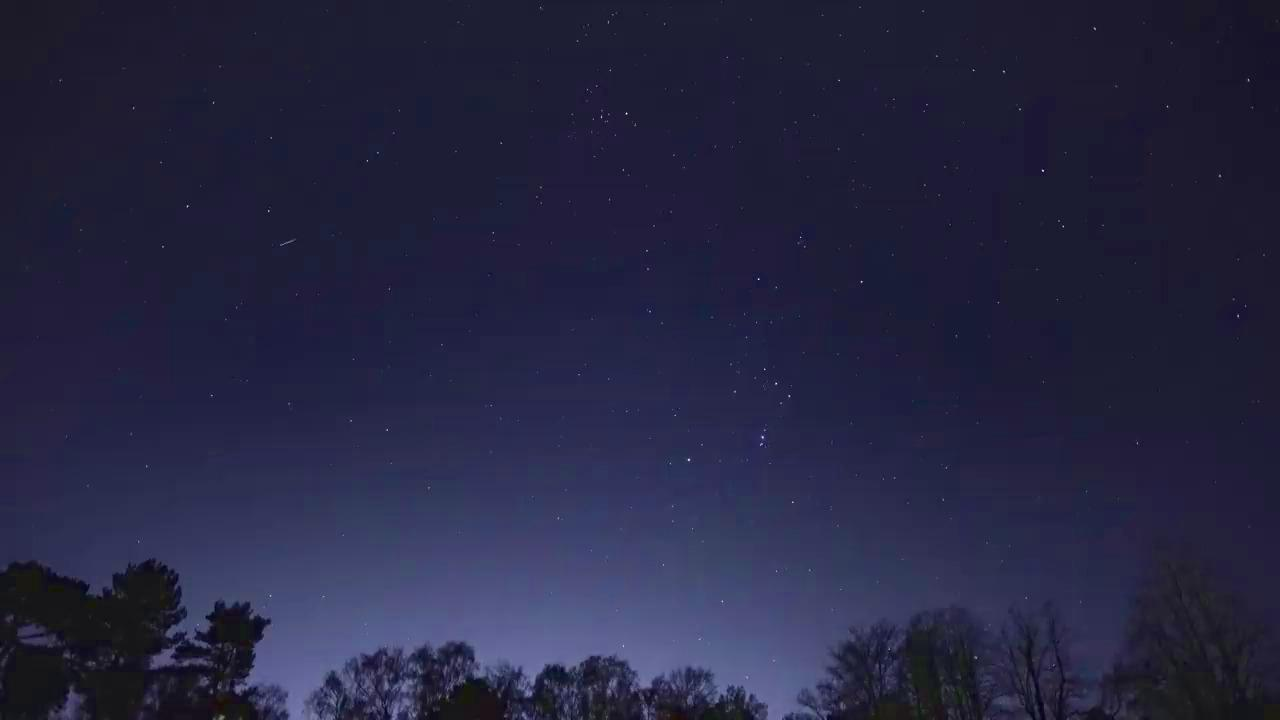meteorite: (259, 230, 315, 253)
